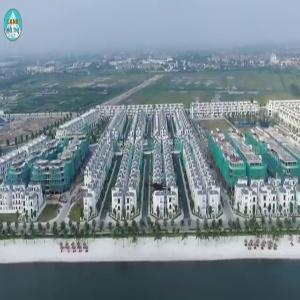drone: (132, 163, 187, 218)
